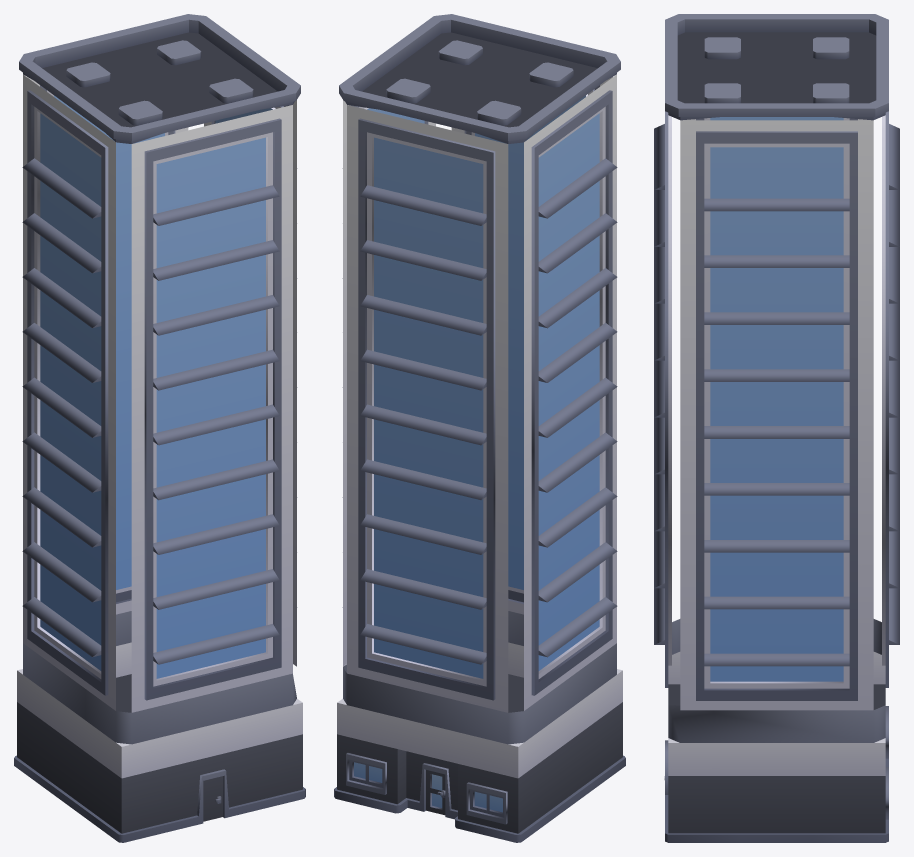
File: tower-b.glb
3 renders of one model, left to right at view 1: azimuth 30°, elevation 25°; view 2: azimuth 150°, elevation 25°; view 3: azimuth 270°, elevation 25°, orthographic. The views are drawn at different scales.
Visible parts, largest first — view 1: building-skyscraper-b; view 2: building-skyscraper-b; view 3: building-skyscraper-b.
Part boxes in pixels (x1,y1,x2,y2): building-skyscraper-b: [14, 14, 305, 842]; building-skyscraper-b: [334, 14, 625, 842]; building-skyscraper-b: [654, 14, 899, 842].
Size of the model in its own units: 1.36 by 4.48 by 1.36.
Materials: 1 (1 with a texture image).
